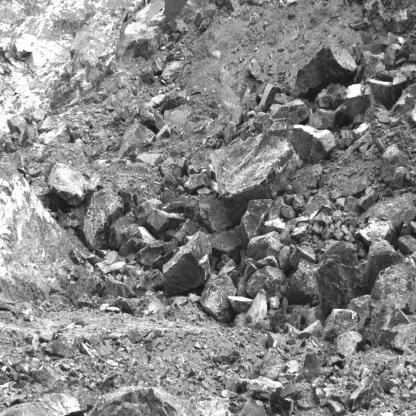stone: (212, 136, 298, 221), (287, 44, 357, 98), (316, 241, 364, 315), (87, 390, 214, 416), (372, 243, 416, 314), (163, 232, 211, 297), (78, 188, 124, 252), (366, 298, 416, 356), (268, 123, 336, 163), (240, 199, 281, 249), (199, 274, 234, 323), (48, 162, 86, 202), (245, 266, 287, 301), (118, 124, 155, 162), (287, 259, 320, 301), (380, 144, 410, 186), (198, 195, 232, 232), (98, 273, 136, 306), (147, 208, 187, 239), (162, 194, 202, 223), (322, 309, 359, 340), (344, 84, 374, 122), (210, 229, 241, 263), (271, 99, 310, 125), (291, 163, 322, 195), (138, 99, 167, 131), (135, 239, 164, 269), (244, 377, 282, 399), (253, 353, 284, 378), (333, 331, 364, 356), (245, 289, 267, 322), (257, 82, 281, 110), (128, 227, 157, 250), (308, 109, 337, 130), (161, 60, 185, 84), (184, 172, 210, 194), (142, 268, 165, 292), (364, 103, 389, 123), (358, 189, 379, 210), (397, 234, 416, 256), (118, 103, 135, 127), (86, 170, 102, 194), (277, 246, 292, 271), (391, 167, 407, 190), (315, 89, 332, 109), (140, 63, 155, 85), (162, 169, 176, 191), (248, 58, 262, 79), (231, 105, 244, 127), (313, 211, 332, 226), (169, 19, 188, 34), (155, 125, 172, 140), (163, 187, 176, 204), (291, 226, 307, 239), (199, 17, 210, 34), (151, 60, 163, 75), (292, 195, 304, 210), (279, 229, 289, 245), (170, 32, 181, 43)
